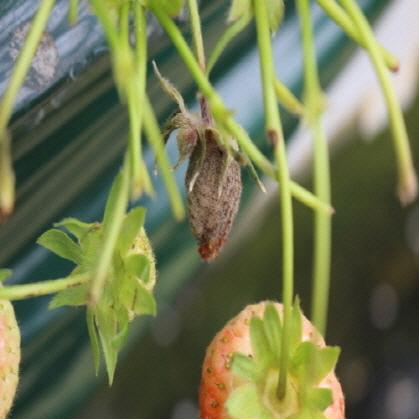Gray Mold: (162, 86, 242, 263)
